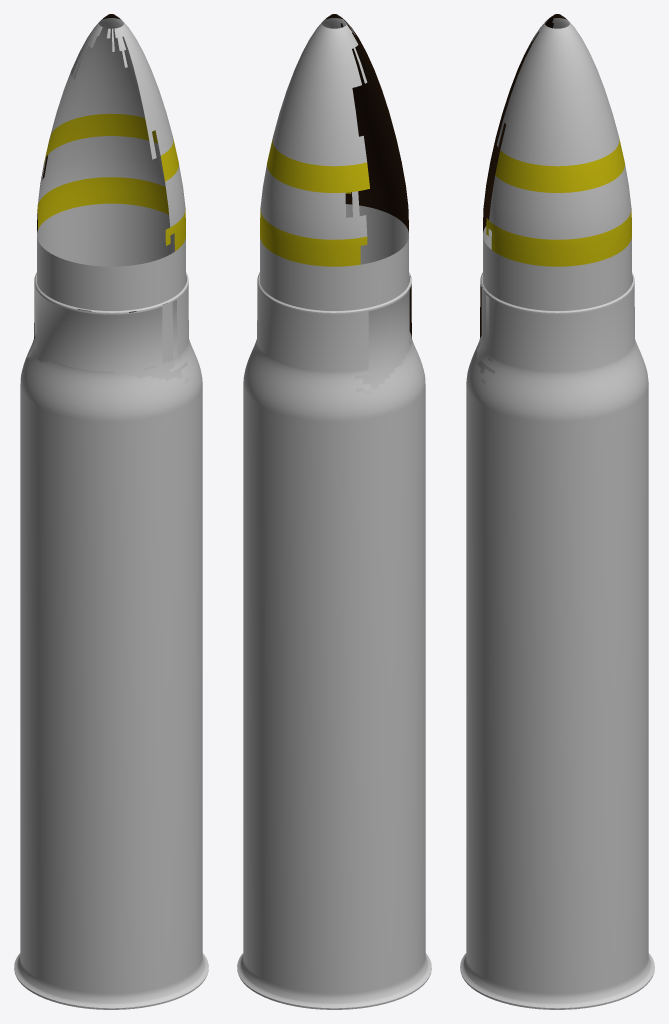
File: shell.obj
3 renders of one model, left to right at view 1: azimuth 30°, elevation 25°; view 2: azimuth 150°, elevation 25°; view 3: azimuth 270°, elevation 25°, orthographic.
Visible parts, largest first — view 1: Cartridge_Circle, Projectile_Circle.001; view 2: Cartridge_Circle, Projectile_Circle.001; view 3: Cartridge_Circle, Projectile_Circle.001.
Part boxes in pixels (x1=…): Cartridge_Circle: x1=14, y1=272, x2=208, y2=1009; Projectile_Circle.001: x1=37, y1=14, x2=185, y2=310; Cartridge_Circle: x1=237, y1=272, x2=431, y2=1009; Projectile_Circle.001: x1=260, y1=14, x2=408, y2=310; Cartridge_Circle: x1=460, y1=272, x2=654, y2=1009; Projectile_Circle.001: x1=483, y1=14, x2=631, y2=310.
Bounding box in the file's own units: 2.14 × 11.55 × 2.14.
